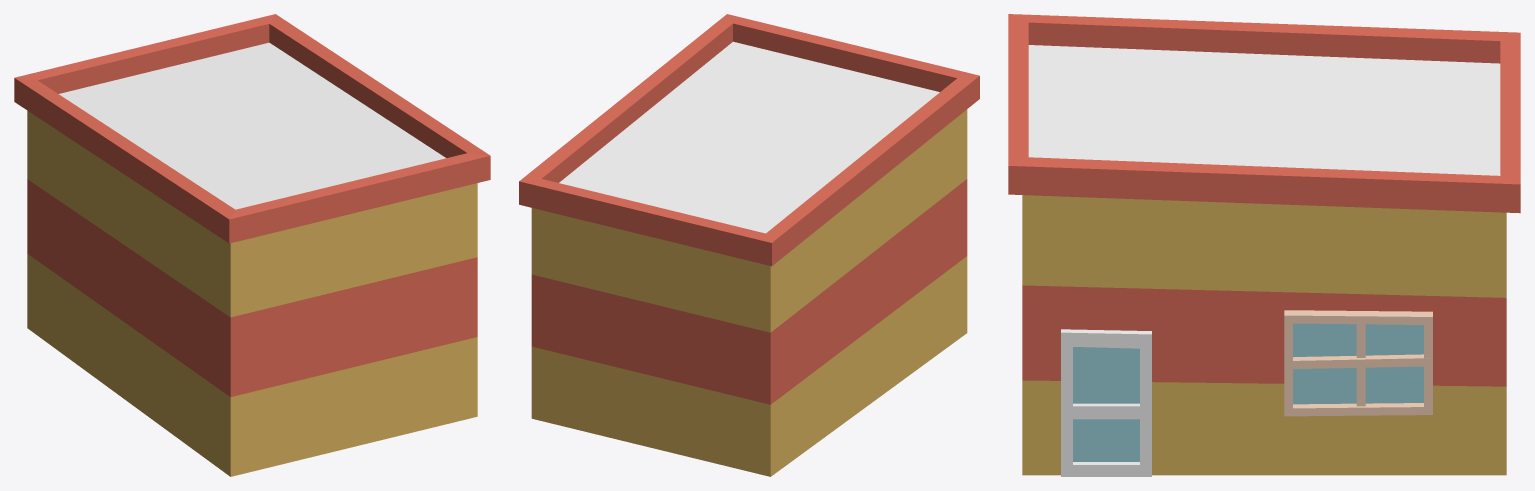
File: Cornelias_house_.fbx
The picture shows the model from 3 angles, left to right: view 1: azimuth 30°, elevation 25°; view 2: azimuth 150°, elevation 25°; view 3: azimuth 270°, elevation 25°; orthographic projection. The views are drawn at different scales.
Parts seen in each view (by area): view 1: Cornelias house; view 2: Cornelias house; view 3: Cornelias house.
Boxes of the visible parts, x1,y1,x2,y2 form: Cornelias house: [14, 14, 490, 476]; Cornelias house: [519, 14, 979, 476]; Cornelias house: [1008, 14, 1520, 476].
Size of the model in its own units: 1006 by 961 by 1422.
